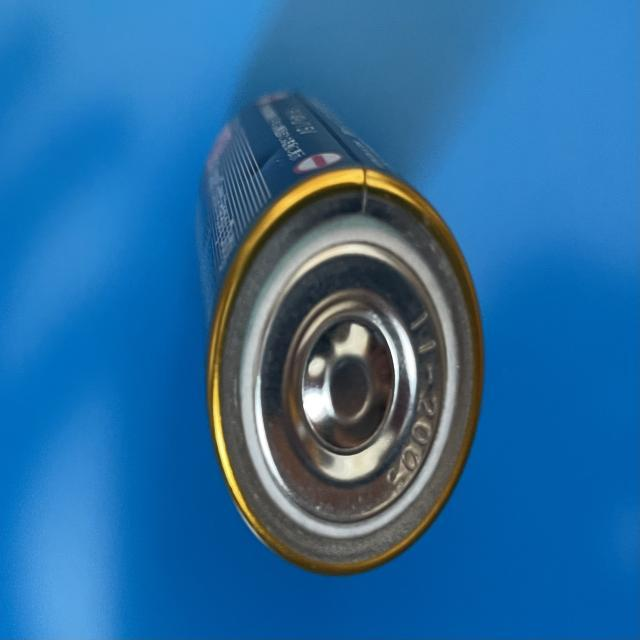hazardous waste: (188, 90, 486, 578)
